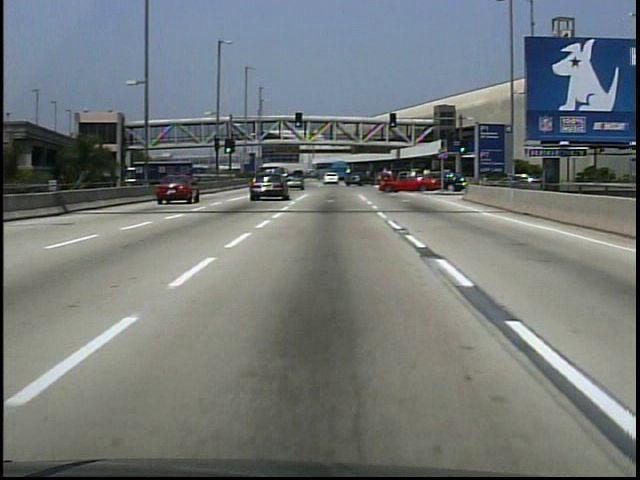person: (230, 131, 237, 144)
